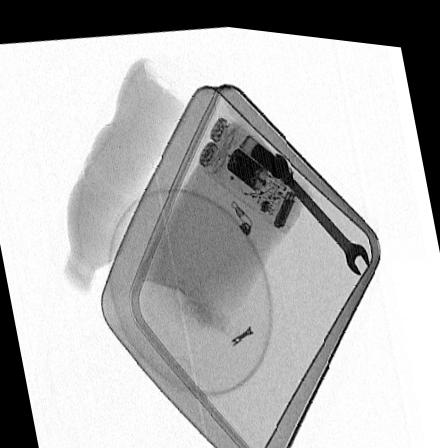Wrench: (265, 143, 372, 268)
